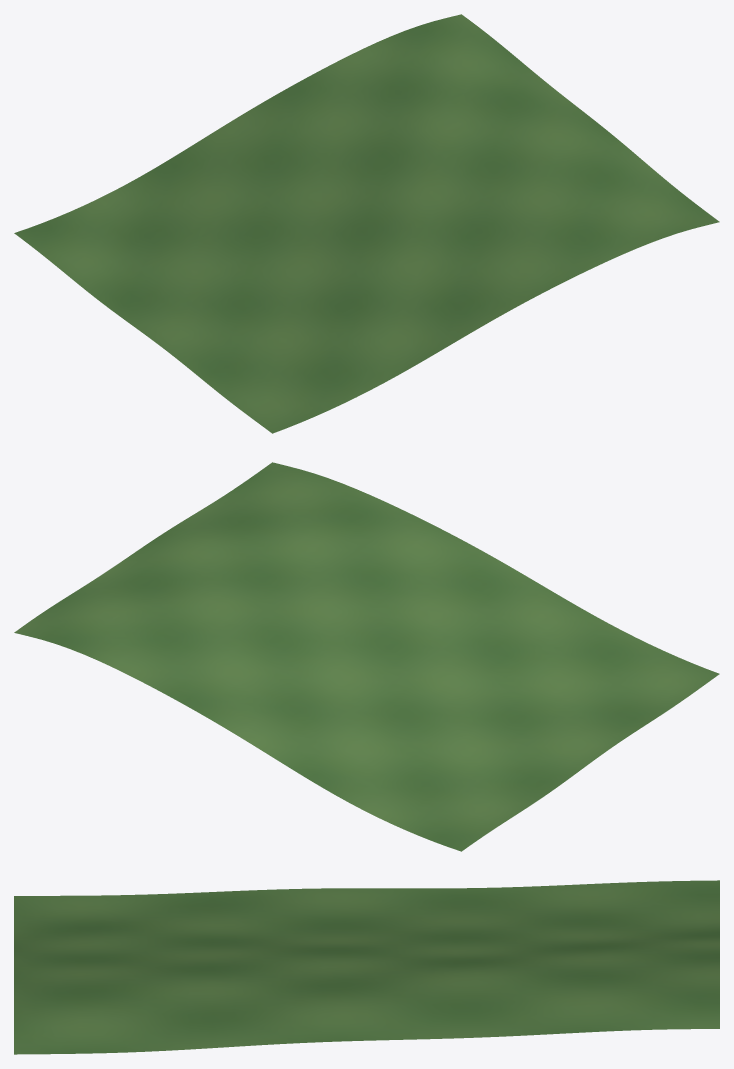
File: chunk_12_3.glb
3 renders of one model, top to bottom at view 1: azimuth 30°, elevation 25°; view 2: azimuth 150°, elevation 25°; view 3: azimuth 270°, elevation 25°, orthographic. The views are drawn at different scales.
Bounding box in the file's own units: 512 × 132 × 512.
